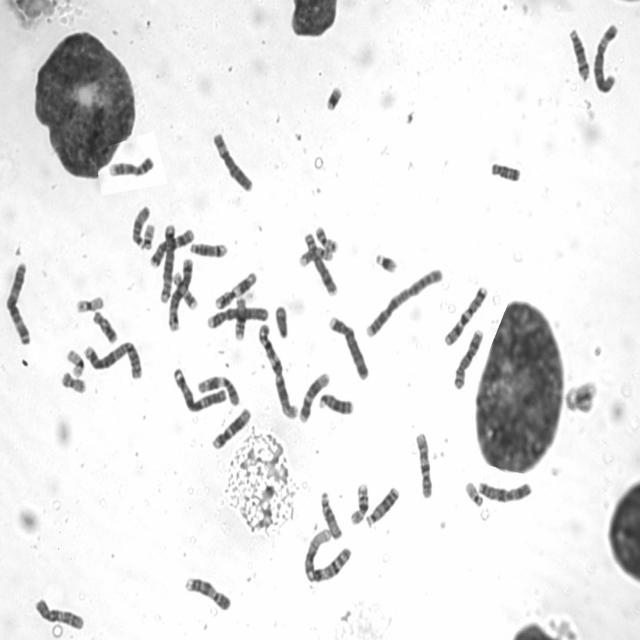A1: (255, 320, 299, 420), (300, 526, 352, 584)
A2: (363, 264, 444, 340), (82, 338, 144, 380)
A3: (170, 364, 230, 414), (3, 259, 32, 347)
B4: (327, 312, 370, 382), (204, 304, 269, 330)
B5: (166, 255, 195, 332), (158, 221, 176, 304)
C10: (33, 596, 86, 631), (413, 429, 433, 500)
C11: (212, 268, 259, 310), (196, 372, 241, 408)
C12: (210, 404, 252, 452), (297, 369, 331, 424)
C6: (210, 128, 254, 194), (590, 20, 620, 95)
C7: (440, 282, 489, 347), (147, 225, 195, 269)
C8: (301, 231, 338, 298), (450, 327, 484, 391)
C9: (183, 574, 231, 612), (106, 152, 156, 179)
D13: (364, 483, 399, 528), (317, 390, 355, 417)
D14: (566, 24, 591, 82), (188, 239, 230, 259)
D15: (318, 488, 344, 540), (129, 203, 153, 250)
E16: (348, 480, 370, 527), (232, 296, 249, 342)
E17: (171, 269, 199, 312), (297, 243, 336, 267)
E18: (90, 308, 118, 344), (488, 158, 522, 183)
F19: (73, 292, 105, 314), (65, 347, 86, 379)
F20: (313, 223, 339, 254), (59, 369, 88, 394)
G21: (562, 377, 600, 416), (323, 80, 345, 112), (373, 250, 398, 274)
G22: (464, 478, 484, 508), (140, 220, 156, 251)
X: (476, 478, 532, 503)
Y: (272, 302, 290, 340)
